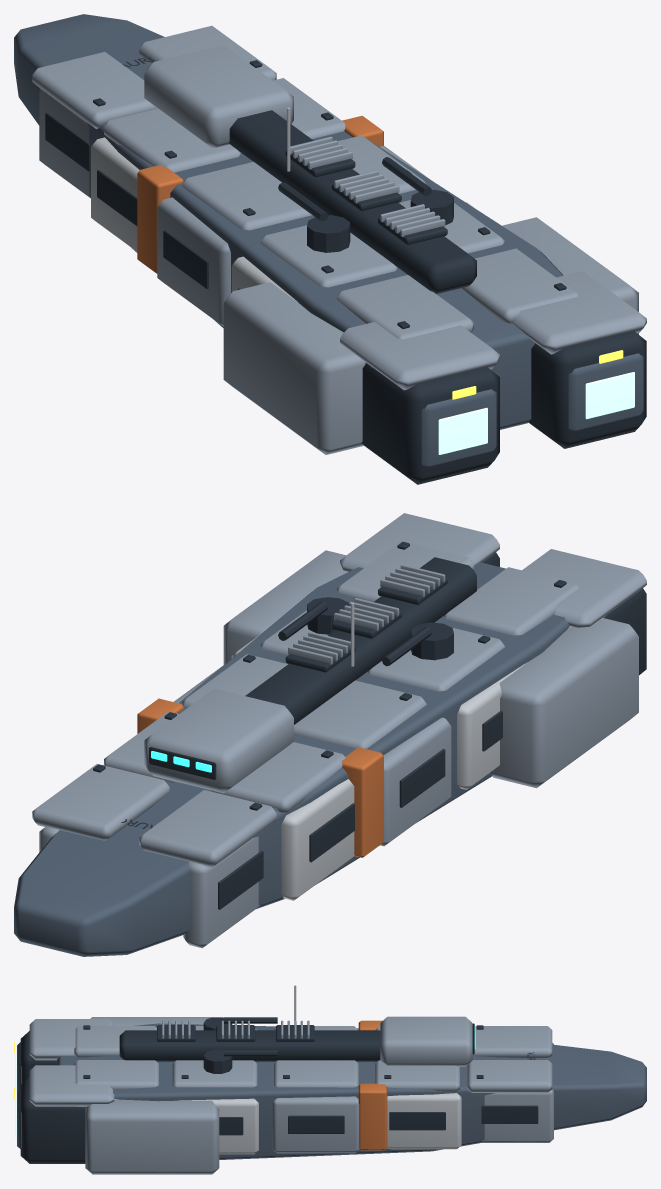
File: cruiser.glb
The picture shows the model from 3 angles, top to bottom: view 1: azimuth 30°, elevation 25°; view 2: azimuth 150°, elevation 25°; view 3: azimuth 270°, elevation 25°; orthographic projection. The views are drawn at different scales.
Parts seen in each view (by area): view 1: Cruiser | keel, Cruiser | armored shoulder, Cruiser | dorsal spine, Cruiser | bridge superstructure, Cruiser | rear engine housing, Cruiser | rear engine housing.001, Cruiser | engine armor cap, Cruiser | engine armor cap.001, Cruiser | top armor.004, Cruiser | flank armor.002, Cruiser | top armor, Cruiser | top armor.002 (+22 smaller); view 2: Cruiser | keel, Cruiser | armored shoulder, Cruiser | bridge superstructure, Cruiser | dorsal spine, Cruiser | top armor.004, Cruiser | top armor.009, Cruiser | top armor.002, Cruiser | top armor, Cruiser | flank armor.003, Cruiser | engine armor cap, Cruiser | flank armor.002, Cruiser | top armor.003 (+19 smaller); view 3: Cruiser | keel, Cruiser | armored shoulder.001, Cruiser | dorsal spine, Cruiser | bridge superstructure, Cruiser | rear engine housing.001, Cruiser | flank armor.007, Cruiser | flank armor.008, Cruiser | top armor.009, Cruiser | engine armor cap.001, Cruiser | flank armor.009, Cruiser | top armor.004, Cruiser | top armor.007 (+19 smaller).
Boxes of the visible parts, bbox=[...] form: Cruiser | keel: bbox=[14, 14, 563, 429]; Cruiser | armored shoulder: bbox=[223, 282, 365, 454]; Cruiser | dorsal spine: bbox=[228, 110, 476, 293]; Cruiser | bridge superstructure: bbox=[144, 45, 293, 147]; Cruiser | rear engine housing: bbox=[361, 363, 499, 484]; Cruiser | rear engine housing.001: bbox=[529, 331, 646, 448]; Cruiser | engine armor cap: bbox=[340, 322, 499, 390]; Cruiser | engine armor cap.001: bbox=[513, 271, 646, 354]; Cruiser | top armor.004: bbox=[32, 52, 157, 128]; Cruiser | flank armor.002: bbox=[157, 197, 230, 326]; Cruiser | top armor: bbox=[336, 275, 473, 339]; Cruiser | top armor.002: bbox=[182, 161, 312, 230]; Cruiser | keel: bbox=[14, 562, 569, 956]; Cruiser | armored shoulder: bbox=[491, 617, 638, 788]; Cruiser | bridge superstructure: bbox=[144, 688, 293, 793]; Cruiser | dorsal spine: bbox=[245, 557, 476, 724]; Cruiser | top armor.004: bbox=[139, 790, 276, 867]; Cruiser | top armor.009: bbox=[32, 764, 169, 840]; Cruiser | top armor.002: bbox=[294, 680, 426, 748]; Cruiser | top armor: bbox=[444, 567, 578, 635]; Cruiser | flank armor.003: bbox=[281, 779, 354, 900]; Cruiser | engine armor cap: bbox=[522, 549, 646, 627]; Cruiser | flank armor.002: bbox=[380, 717, 451, 846]; Cruiser | top armor.003: bbox=[212, 742, 345, 812]; Cruiser | keel: bbox=[57, 1023, 646, 1159]; Cruiser | armored shoulder.001: bbox=[85, 1099, 219, 1174]; Cruiser | dorsal spine: bbox=[119, 1030, 380, 1061]; Cruiser | bridge superstructure: bbox=[380, 1016, 472, 1066]; Cruiser | rear engine housing.001: bbox=[20, 1077, 85, 1163]; Cruiser | flank armor.007: bbox=[272, 1096, 359, 1153]; Cruiser | flank armor.008: bbox=[386, 1093, 461, 1149]; Cruiser | top armor.009: bbox=[467, 1060, 552, 1092]; Cruiser | engine armor cap.001: bbox=[29, 1065, 114, 1106]; Cruiser | flank armor.009: bbox=[481, 1089, 553, 1142]; Cruiser | top armor.004: bbox=[472, 1026, 552, 1058]; Cruiser | top armor.007: bbox=[274, 1060, 358, 1087].
Size of the model in its own units: 4.04 by 2.48 by 10.62.
